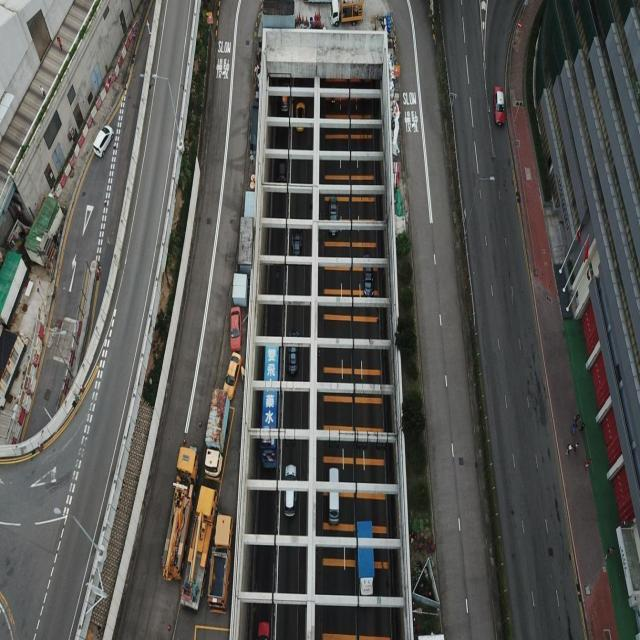p3rson: (605, 546, 614, 560), (39, 84, 46, 100), (579, 420, 585, 436), (57, 34, 62, 52), (574, 441, 580, 454), (566, 443, 572, 454)
